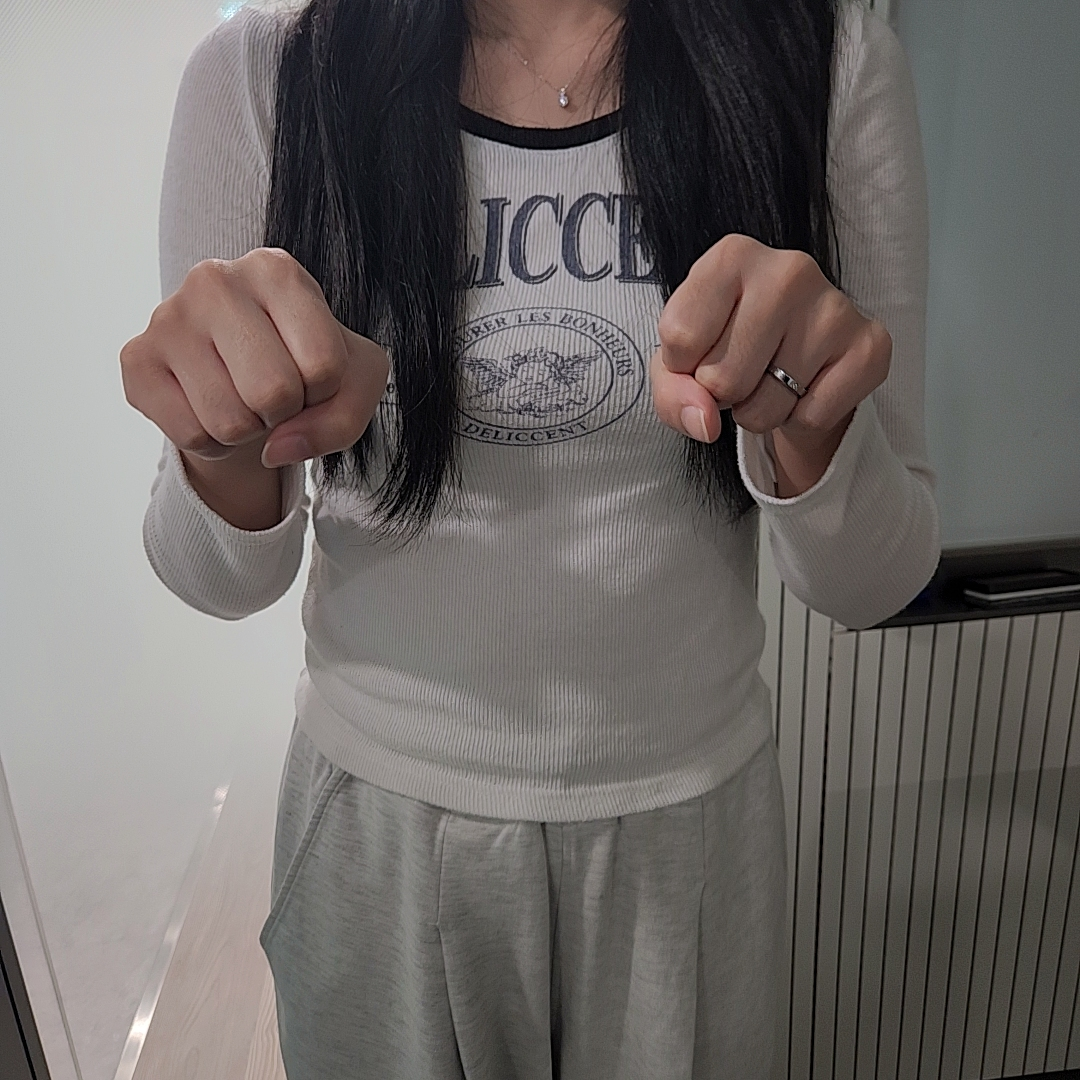hello: (116, 230, 896, 471)
